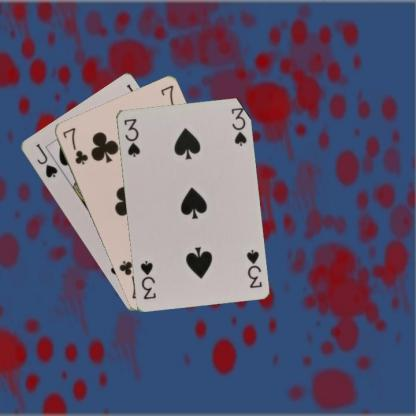3s: (121, 116, 141, 158), (243, 247, 263, 289)
7c: (59, 125, 89, 166)
Js: (33, 140, 59, 179)
